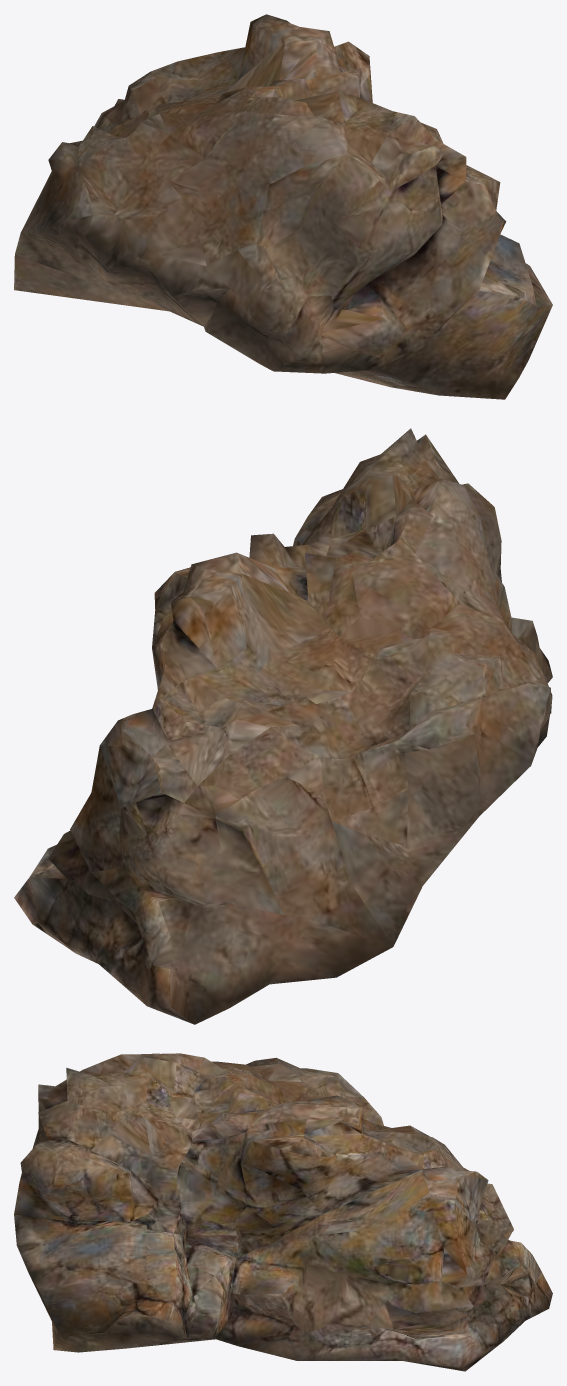
3 views of the same model, one above another, from view 1: azimuth 30°, elevation 25°; view 2: azimuth 150°, elevation 25°; view 3: azimuth 270°, elevation 25° (orthographic). The views are drawn at different scales.
Visible parts, largest first — view 1: boulder_01; view 2: boulder_01; view 3: boulder_01.
Boxes of the visible parts, bbox=[...] form: boulder_01: bbox=[14, 14, 552, 399]; boulder_01: bbox=[14, 428, 552, 1024]; boulder_01: bbox=[14, 1053, 552, 1371].
Bounding box in the file's own units: 1.28 × 0.9911 × 1.8.
Materials: 1 (1 with a texture image).
